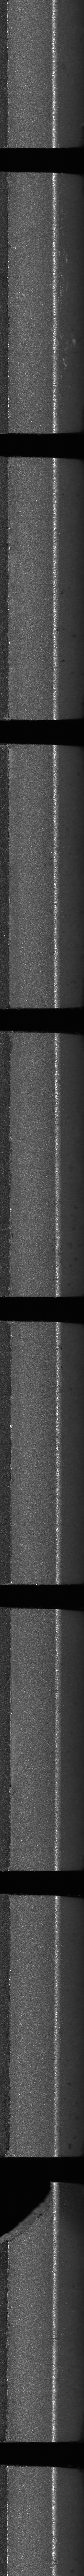Chip: (0, 2181, 56, 2246)
